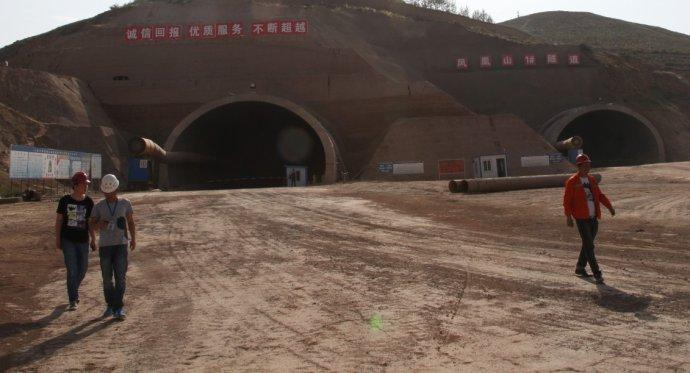helmet: (100, 174, 120, 194), (70, 170, 92, 187), (575, 153, 593, 167)
